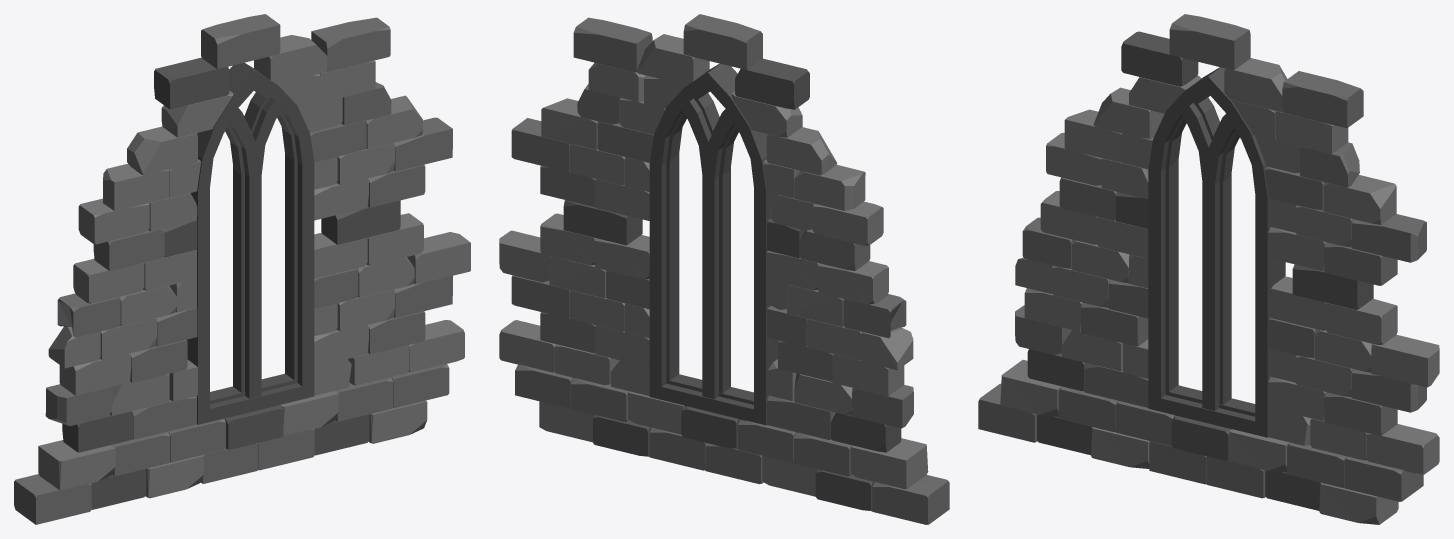
The model's file is Ruins_09.fbx.
3 renders of one model, left to right at view 1: azimuth 30°, elevation 25°; view 2: azimuth 150°, elevation 25°; view 3: azimuth 330°, elevation 25°, orthographic. The views are drawn at different scales.
Visible parts, largest first — view 1: Ruins_09_LOD0; view 2: Ruins_09_LOD0; view 3: Ruins_09_LOD0.
Part boxes in pixels (x1=…): Ruins_09_LOD0: x1=14, y1=14, x2=470, y2=524; Ruins_09_LOD0: x1=499, y1=14, x2=949, y2=524; Ruins_09_LOD0: x1=978, y1=14, x2=1439, y2=524.
Size of what is drawn, in the model's own units: 582 by 556 by 56.33.
